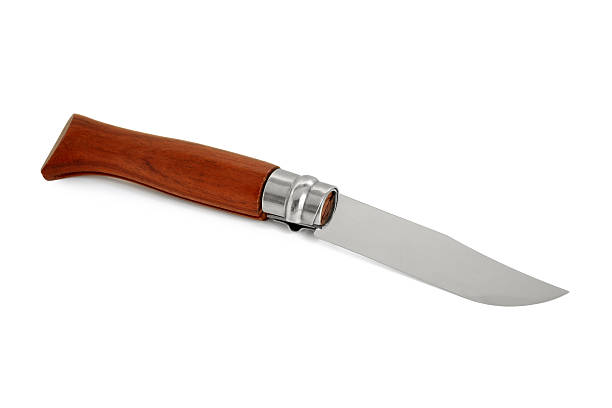knife: (41, 113, 570, 308)
